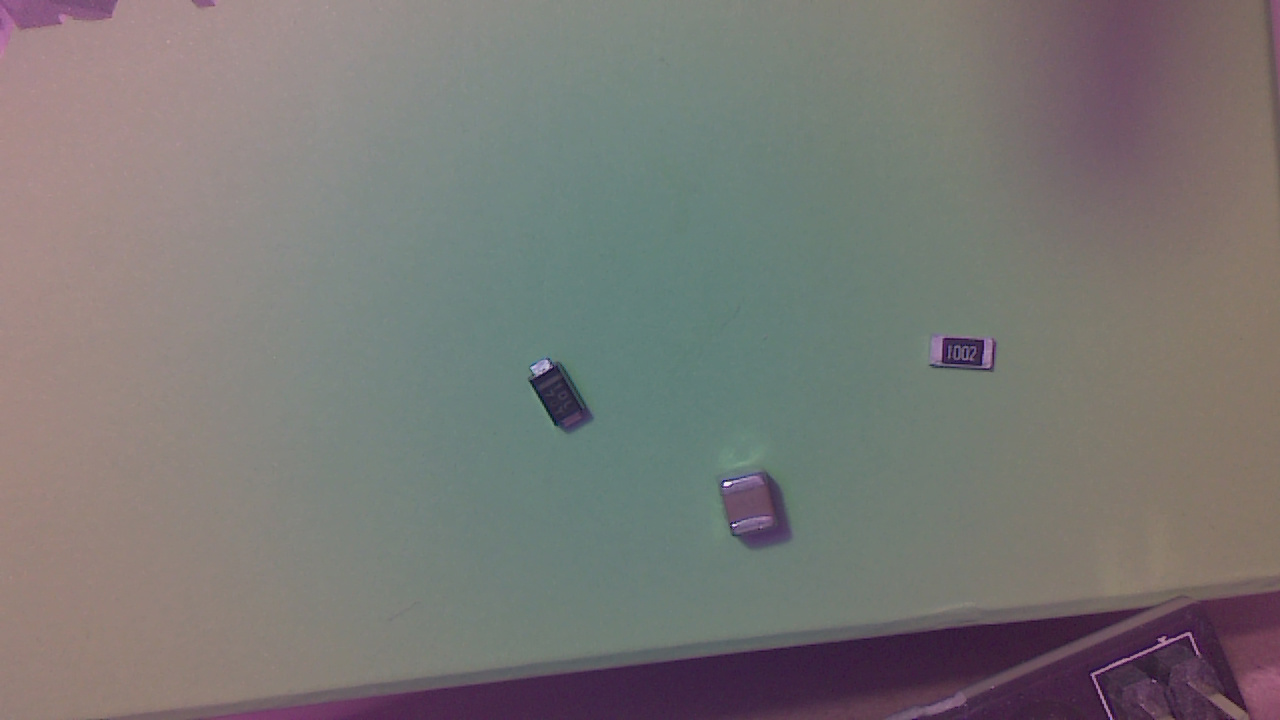Condensator: (720, 479, 787, 543)
Diode: (532, 359, 597, 437)
Resistor: (931, 339, 1003, 381)
